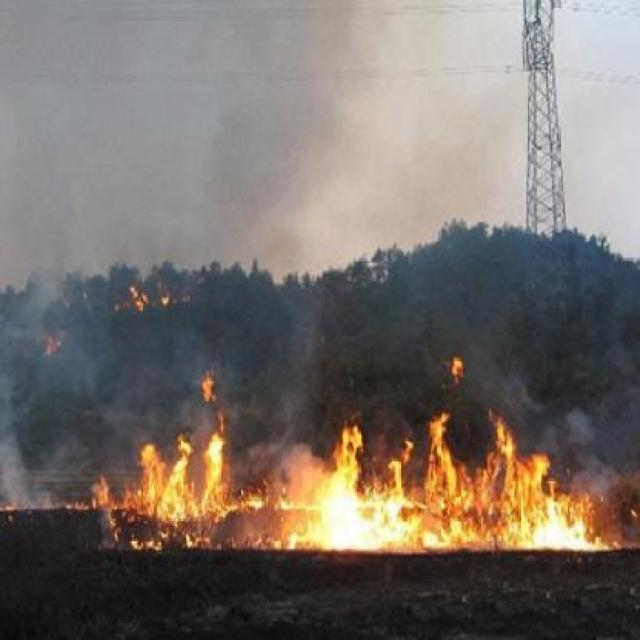Fire: (70, 391, 633, 564), (126, 280, 170, 316), (198, 368, 218, 396), (447, 353, 465, 383)
